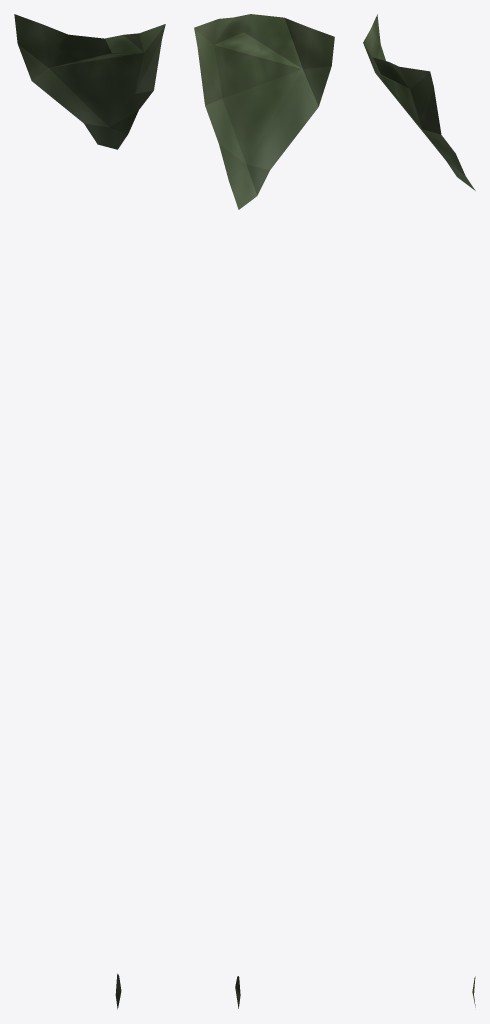
3 renders of one model, left to right at view 1: azimuth 30°, elevation 25°; view 2: azimuth 210°, elevation 25°; view 3: azimuth 330°, elevation 25°, orthographic. The views are drawn at different scales.
Bounding box in the file's own units: 0.2682 × 2.53 × 0.2292.
Materials: 1 (1 with a texture image).
